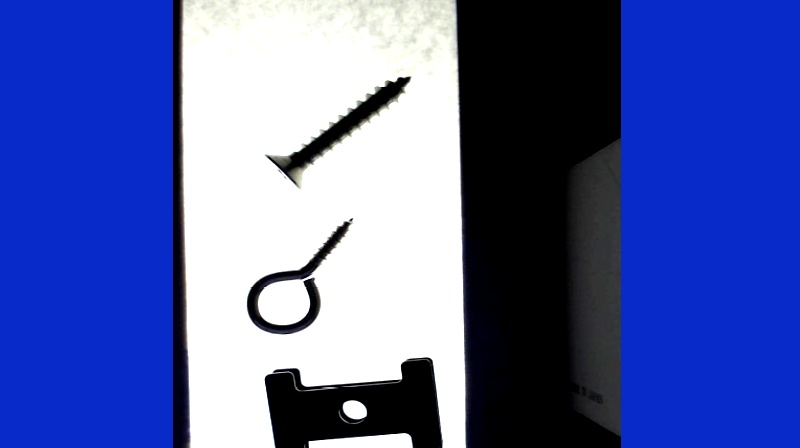O001: (245, 215, 358, 335)
O002: (265, 355, 445, 447)
S001: (264, 74, 412, 190)
